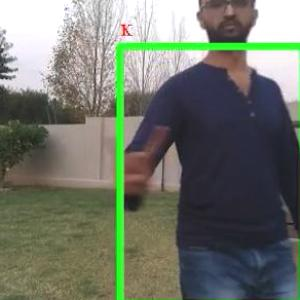takeoff-hand: (106, 118, 167, 208)
